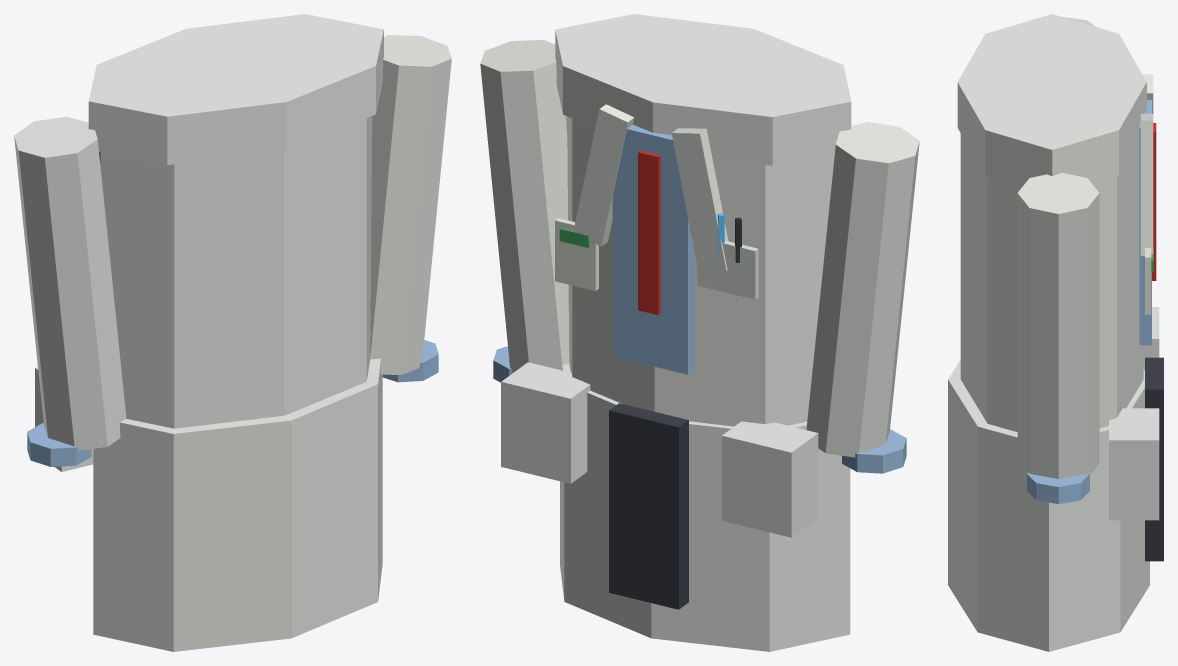
The model's file is player_coat.glb.
The picture shows the model from 3 angles, left to right: view 1: azimuth 30°, elevation 25°; view 2: azimuth 150°, elevation 25°; view 3: azimuth 270°, elevation 25°; orthographic projection. The views are drawn at different scales.
Parts seen in each view (by area): view 1: player_coat; view 2: player_coat; view 3: player_coat.
Boxes of the visible parts, x1,y1,x2,y2 form: player_coat: (14, 14, 451, 651); player_coat: (480, 14, 919, 651); player_coat: (948, 14, 1163, 651).
Size of the model in its own units: 0.7416 by 0.88 by 0.342.
1 material, 1 textured.
